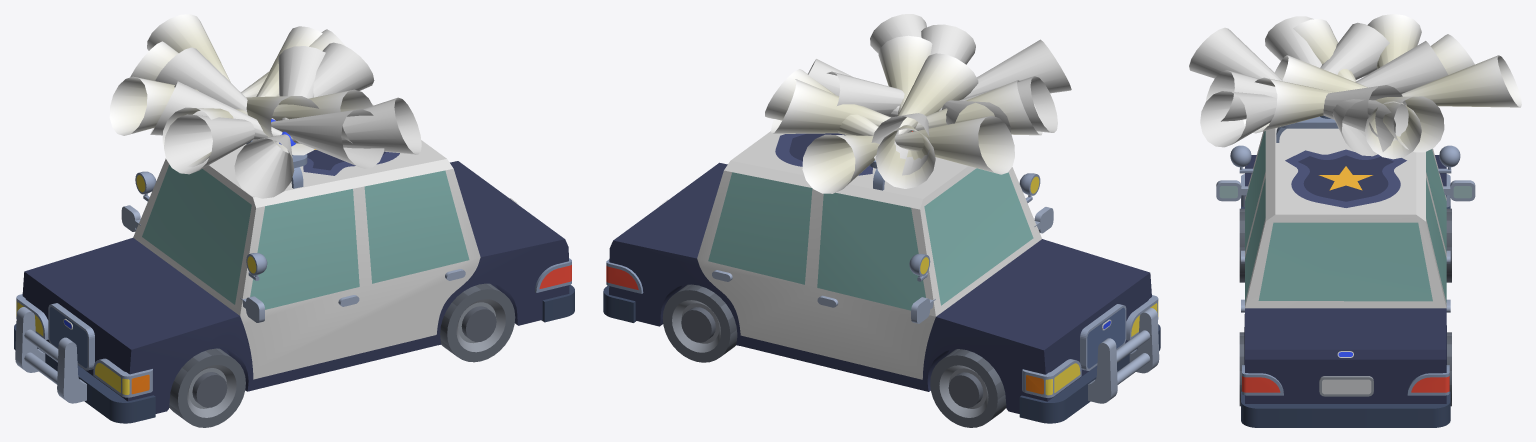
The model's file is CarPolicia.fbx.
The picture shows the model from 3 angles, left to right: view 1: azimuth 30°, elevation 25°; view 2: azimuth 150°, elevation 25°; view 3: azimuth 270°, elevation 25°; orthographic projection. The views are drawn at different scales.
Parts seen in each view (by area): view 1: Police Car, FonarStolb1.004, FonarStolb1.003, FonarStolb1.002, Police Car Wheel, FonarStolb1.005, Police Car Wheel.001; view 2: Police Car, FonarStolb1.002, FonarStolb1.005, FonarStolb1.003, FonarStolb1.004, Police Car Wheel, Police Car Wheel.001; view 3: Police Car, FonarStolb1.003, FonarStolb1.002, FonarStolb1.004, FonarStolb1.005, Police Car Wheel, Police Car Wheel.001.
Part boxes in pixels (x1,y1,x2,y2): Police Car: (14, 104, 574, 423); FonarStolb1.004: (155, 42, 384, 174); FonarStolb1.003: (150, 46, 421, 198); FonarStolb1.002: (109, 14, 344, 155); Police Car Wheel: (169, 348, 245, 427); FonarStolb1.005: (130, 26, 372, 167); Police Car Wheel.001: (440, 283, 515, 362); Police Car: (603, 131, 1160, 423); FonarStolb1.002: (765, 53, 1014, 193); FonarStolb1.005: (771, 35, 1042, 188); FonarStolb1.003: (827, 14, 1071, 132); FonarStolb1.004: (808, 24, 1057, 175); Police Car Wheel: (930, 349, 1006, 427); Police Car Wheel.001: (662, 284, 737, 362); Police Car: (1216, 115, 1475, 427); FonarStolb1.003: (1189, 22, 1408, 147); FonarStolb1.002: (1274, 14, 1521, 159); FonarStolb1.004: (1206, 16, 1448, 156); FonarStolb1.005: (1243, 18, 1474, 152); Police Car Wheel: (1239, 208, 1451, 282); Police Car Wheel.001: (1239, 332, 1451, 406).
Bounding box in the file's own units: 10.08 × 5.67 × 6.34.
